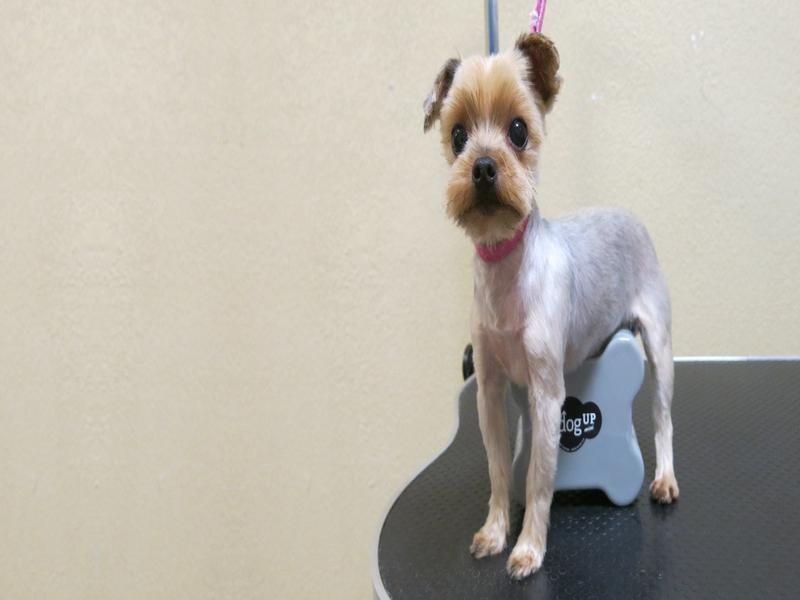dog_stand: (423, 32, 684, 581)
